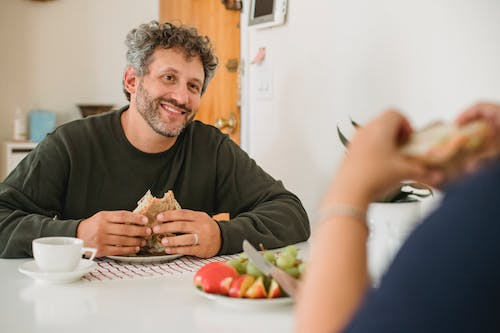knife: (242, 237, 302, 299)
